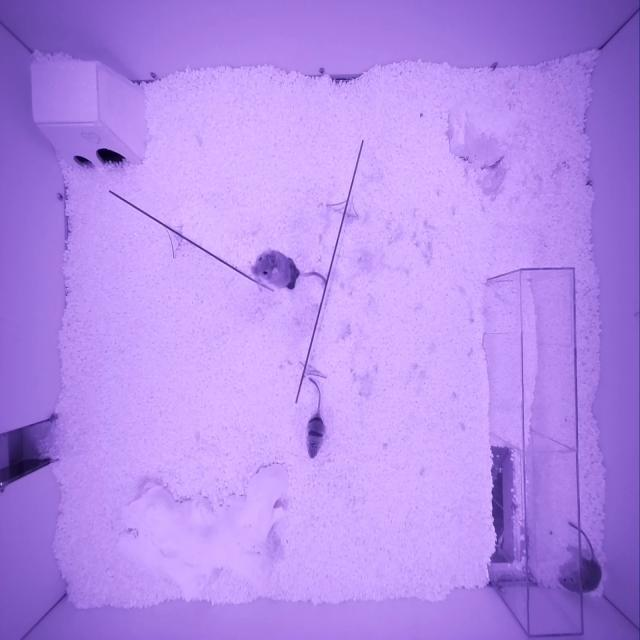adult_back: (252, 247, 300, 290)
pup_fluffy: (559, 547, 601, 595)
pup_h_stripe: (306, 413, 324, 460)
